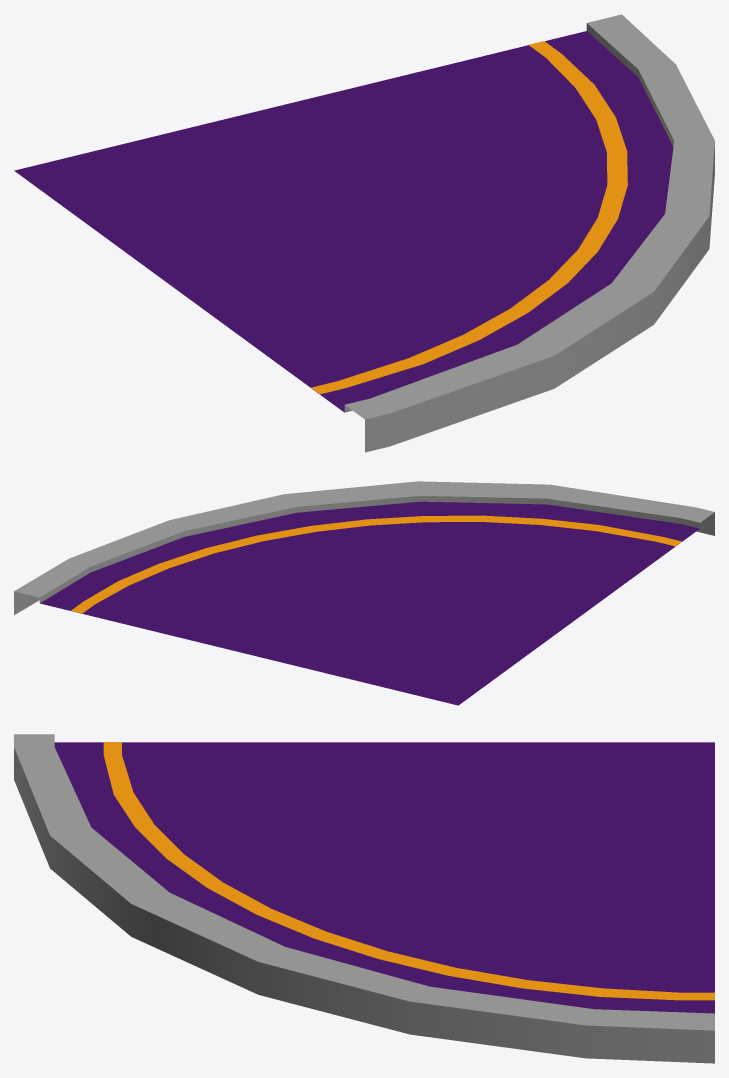
The model's file is ParkingRoad_C_2.fbx.
3 renders of one model, top to bottom at view 1: azimuth 30°, elevation 25°; view 2: azimuth 150°, elevation 25°; view 3: azimuth 270°, elevation 25°, orthographic. The views are drawn at different scales.
Visible parts, largest first — view 1: ParkingRoad_C_2; view 2: ParkingRoad_C_2; view 3: ParkingRoad_C_2.
Boxes of the visible parts, <box> form: ParkingRoad_C_2: <box>14,14,714,452</box>; ParkingRoad_C_2: <box>14,481,714,705</box>; ParkingRoad_C_2: <box>14,734,714,1063</box>.
Bounding box in the file's own units: 800 × 41.48 × 800.
